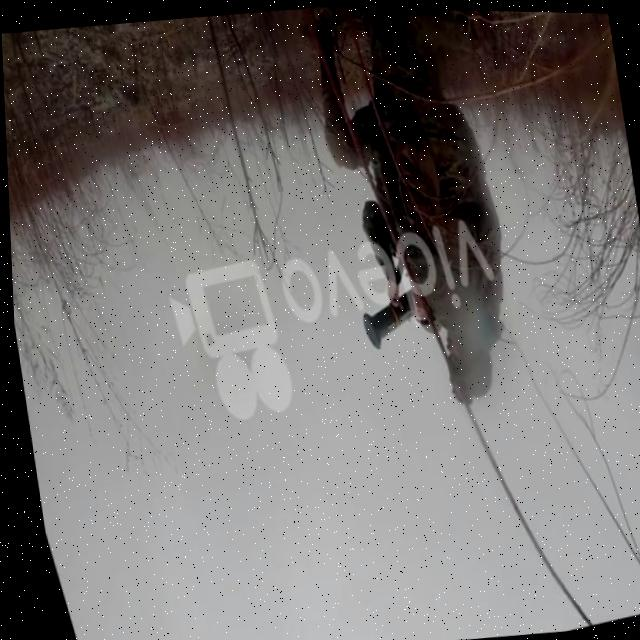rocket: (346, 270, 423, 355)
